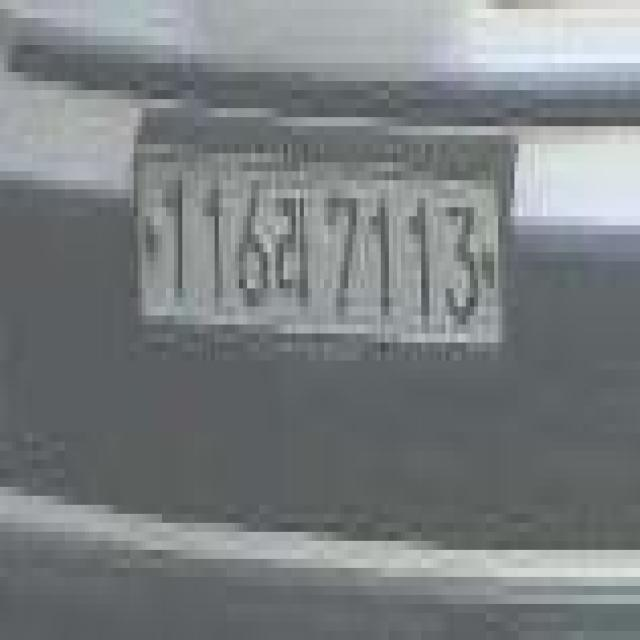illegal_plate: (133, 136, 510, 382)
